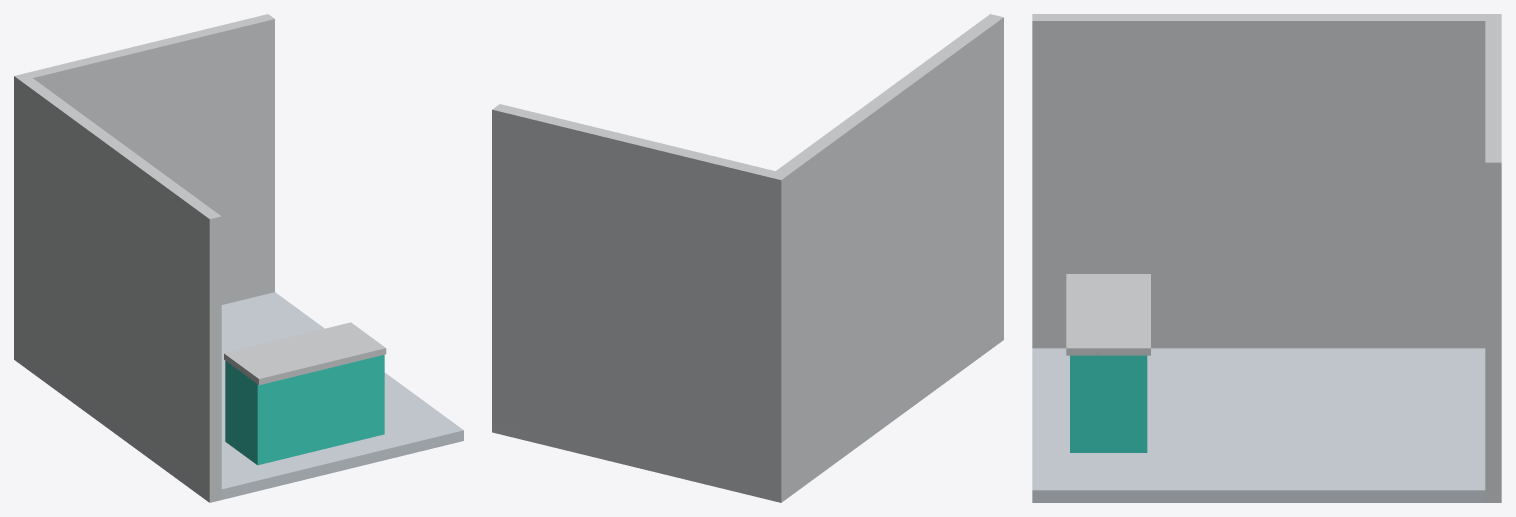
3 renders of one model, left to right at view 1: azimuth 30°, elevation 25°; view 2: azimuth 150°, elevation 25°; view 3: azimuth 270°, elevation 25°, orthographic. The views are drawn at different scales.
Visible parts, largest first — view 1: Exhibition Booth Concept; view 2: Exhibition Booth Concept; view 3: Exhibition Booth Concept.
Part boxes in pixels (box(x1,y1,x2,y2)): Exhibition Booth Concept: box(14, 14, 463, 502); Exhibition Booth Concept: box(492, 14, 1003, 502); Exhibition Booth Concept: box(1032, 14, 1501, 502).
Size of the model in its own units: 3 by 3.2 by 4.
